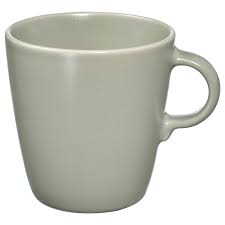mug: (3, 7, 224, 214)
